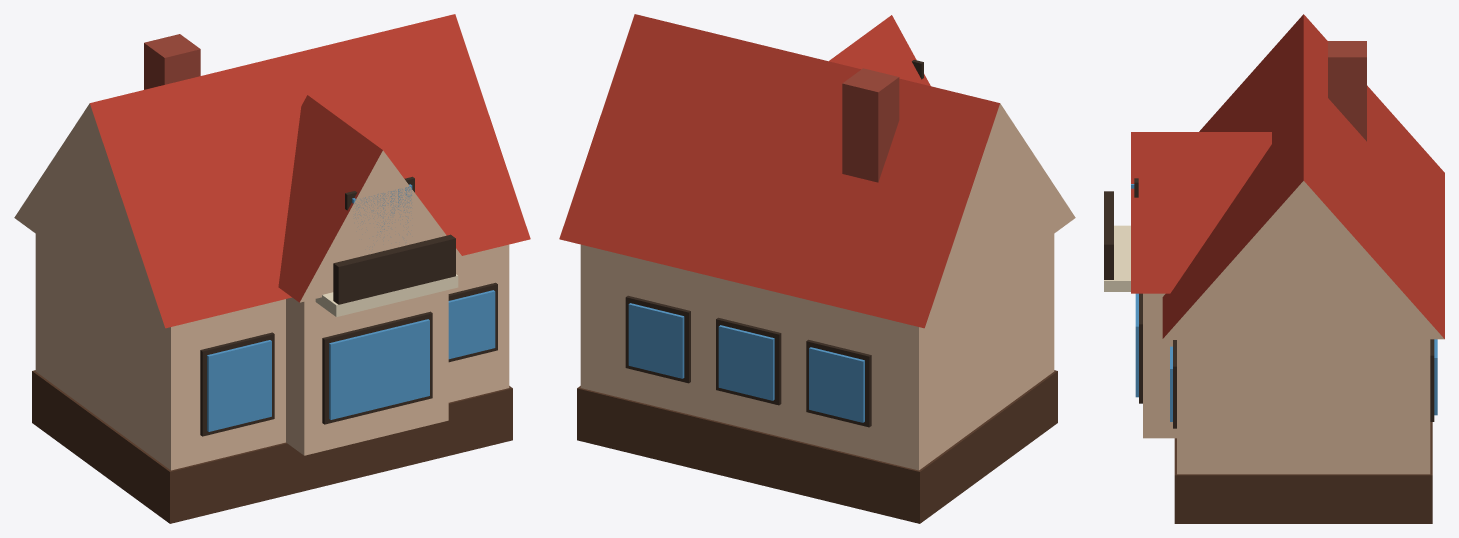
File: 66_polish_balcony_3.obj
The picture shows the model from 3 angles, left to right: view 1: azimuth 30°, elevation 25°; view 2: azimuth 150°, elevation 25°; view 3: azimuth 270°, elevation 25°; orthographic projection. The views are drawn at different scales.
Parts seen in each view (by area): view 1: 66_polish_balcony_3; view 2: 66_polish_balcony_3; view 3: 66_polish_balcony_3.
Part boxes in pixels (box(x1,y1,x2,y2)): 66_polish_balcony_3: box(14, 14, 530, 523); 66_polish_balcony_3: box(559, 14, 1075, 523); 66_polish_balcony_3: box(1104, 14, 1444, 523).
Bounding box in the file's own units: 1.62 × 1.64 × 1.4.
